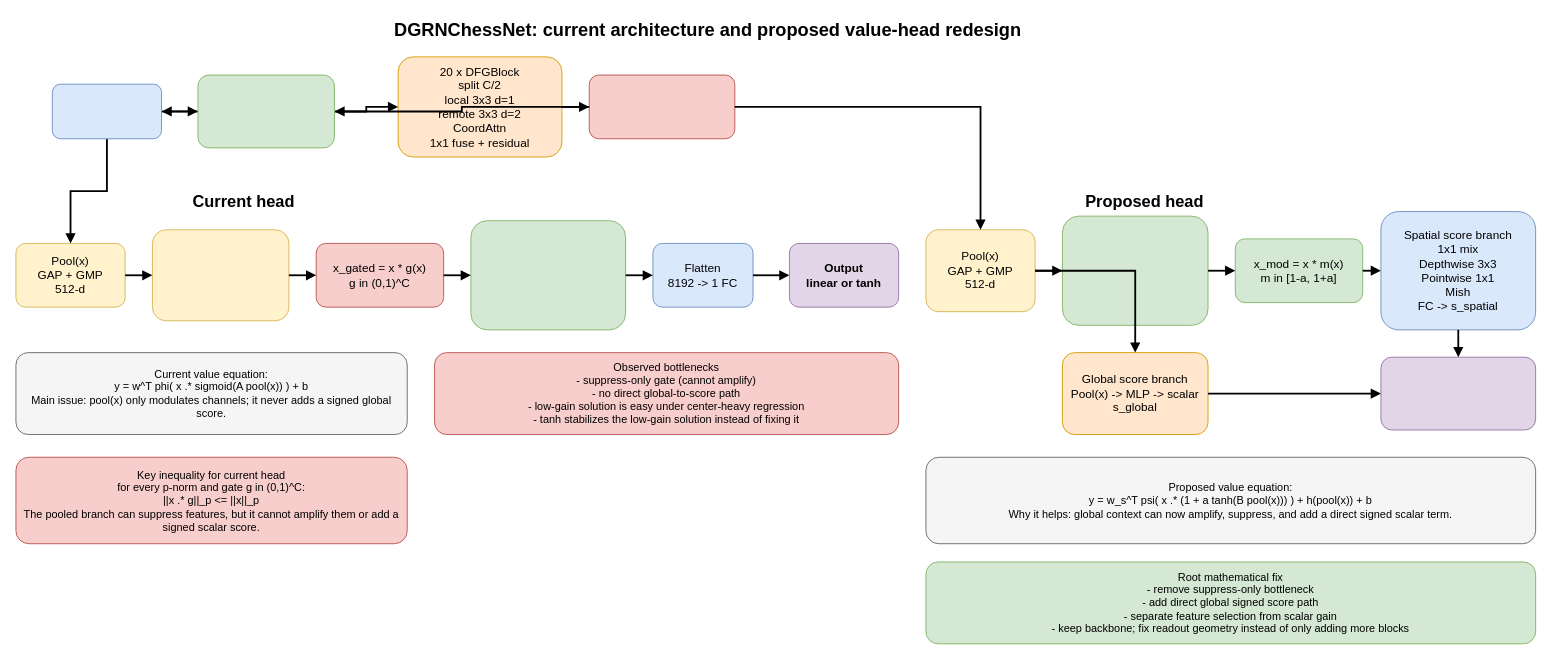
Image size: 1552x660. Some labels were removed from this diagram. The shapes that lost their labels are listed below. From the top down, each one's centre as x and y in pixels, then its label:
At [106,111]: "Input 18 x 8 x 8".
At [265,111]: "Stem Conv 3x3 BN + Mish 18 -> 256".
At [661,106]: "Backbone feature tensor x 256 x 8 x 8".
At [220,275]: "Global MLP 512 -> 128 -> 256 sigmoid gate g(x)".
At [548,275]: "Spatial branch Depthwise 3x3 BN Pointwise 1x1 -> 128 BN + Mish".
At [1135,270]: "Residual gain branch 512 -> 128 -> 256 m(x) = 1 + a * tanh(.)".
At [1458,393]: "Final value y = s_spatial + s_global optional tanh only at inference".
